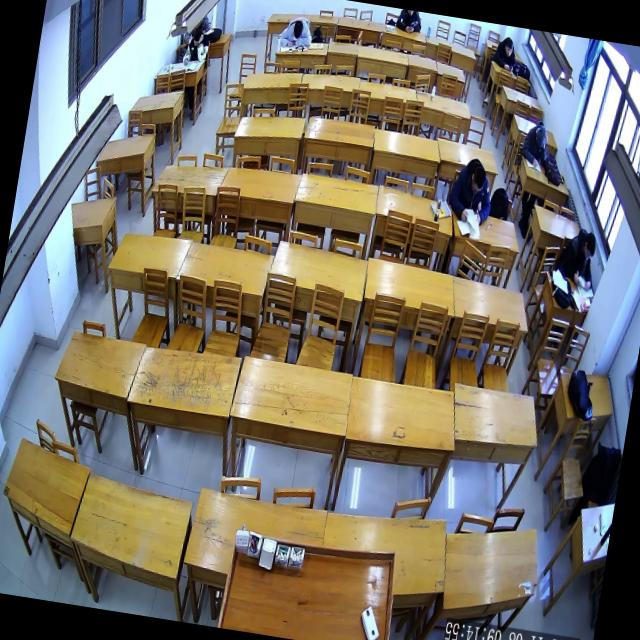bow: (277, 12, 315, 50), (492, 34, 520, 72)
down: (469, 164, 487, 194), (582, 232, 598, 259), (534, 124, 548, 148), (192, 27, 205, 47), (292, 18, 304, 38), (503, 36, 515, 56)
sit: (444, 156, 496, 226), (557, 226, 601, 292), (520, 119, 552, 167), (181, 26, 211, 68)
